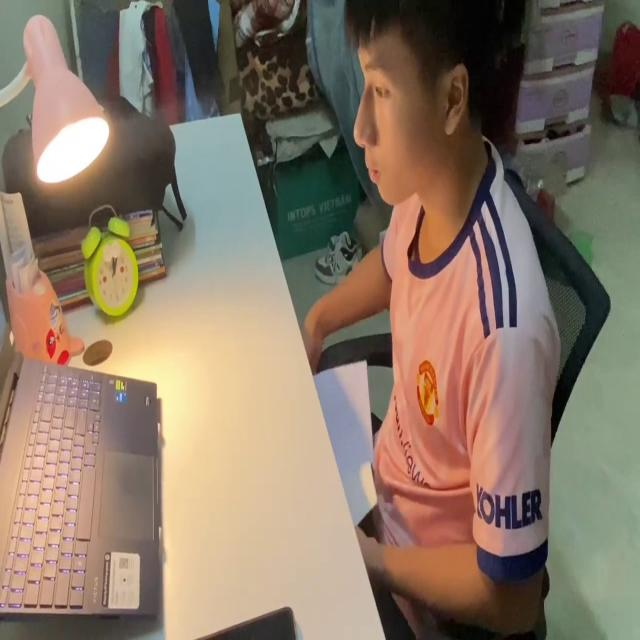book: (314, 362, 379, 526)
laptop: (0, 294, 162, 622)
phone: (188, 603, 296, 640)
student: (296, 0, 558, 640)
